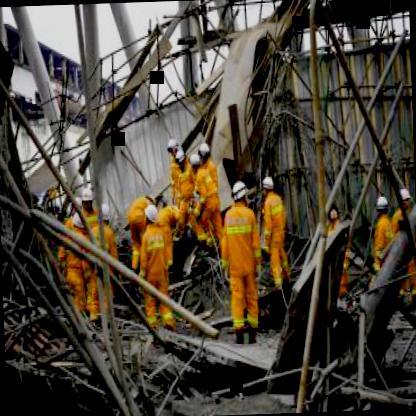helmet: (232, 176, 248, 209), (97, 196, 112, 230), (80, 180, 94, 214), (398, 182, 412, 213), (142, 204, 158, 230), (198, 138, 212, 166), (376, 193, 390, 219), (262, 172, 275, 199), (166, 132, 180, 156), (190, 150, 202, 176)
